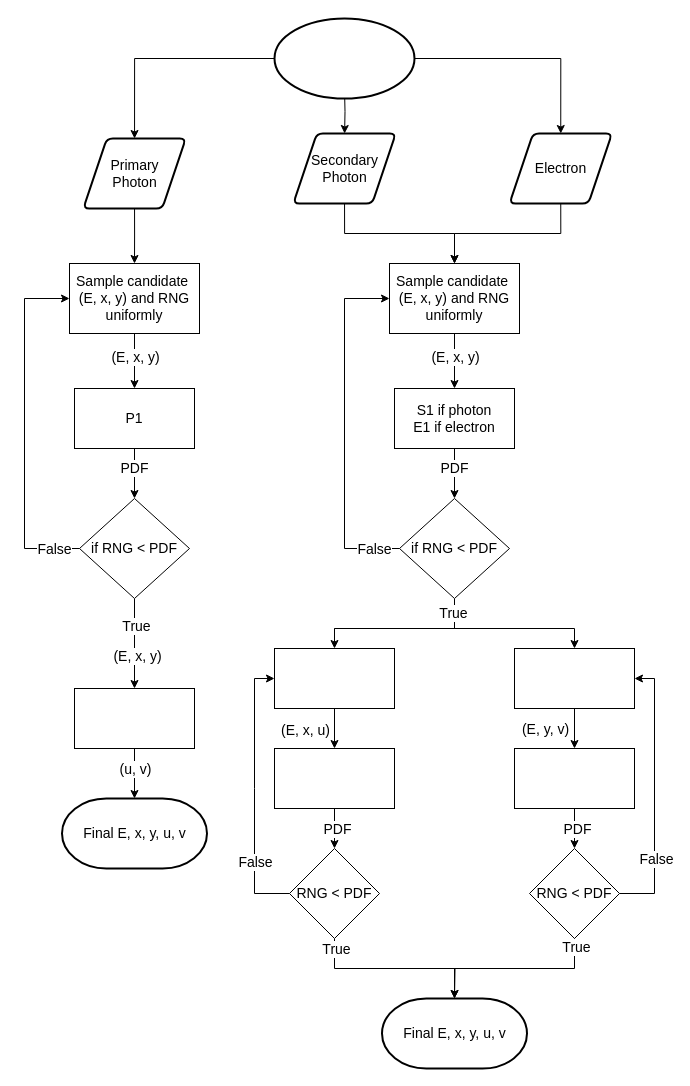
Some shapes in this 690 by 1086 pixel diagram are drawn without their labels. The centre of each missing label's shape, as x and y in pixels:
P2: [134,718]
S2u if photon E2u if electron: [334,778]
S2v if photon E2v if electron: [574,778]
Sample candidate u and RNG uniformly: [334,678]
Sample candidate v and RNG uniformly: [574,678]
Sample particle type (p, s, e): [344,58]
